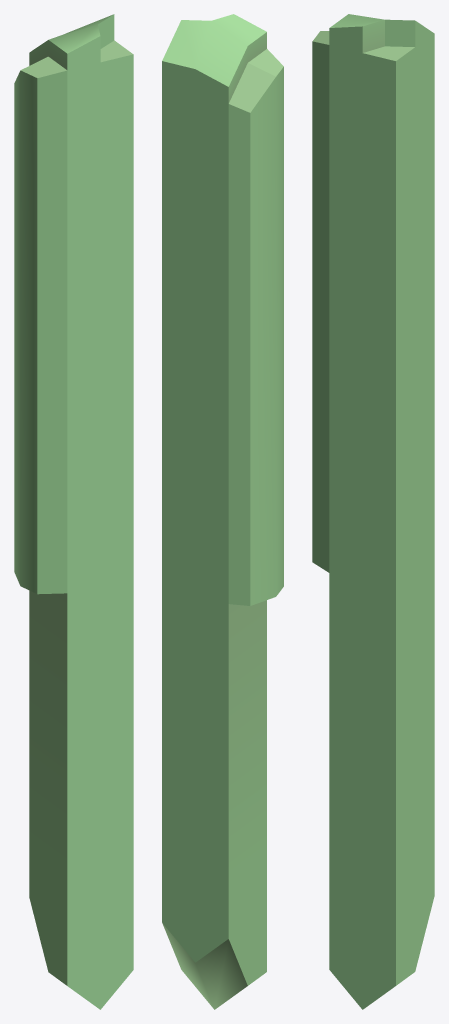
Rendered from CrystalShard.005.glb.
3 renders of one model, left to right at view 1: azimuth 30°, elevation 25°; view 2: azimuth 150°, elevation 25°; view 3: azimuth 330°, elevation 25°, orthographic.
Visible parts, largest first — view 1: CrystalShard.005; view 2: CrystalShard.005; view 3: CrystalShard.005.
Boxes of the visible parts, bbox=[...] form: CrystalShard.005: bbox=[14, 14, 133, 1009]; CrystalShard.005: bbox=[162, 14, 283, 1009]; CrystalShard.005: bbox=[312, 14, 434, 1009].
Size of the model in its own units: 156 by 1544 by 110.
